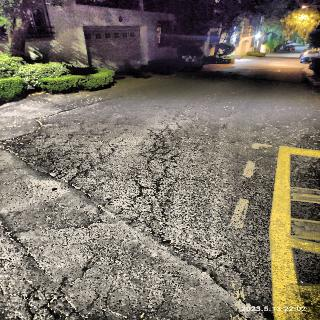alligator-crack: (13, 104, 250, 236), (161, 239, 263, 320), (5, 231, 83, 318)
